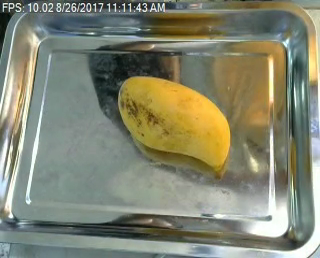Mango: (116, 73, 238, 177)
